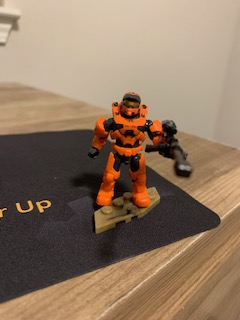spartan: (80, 90, 170, 210)
